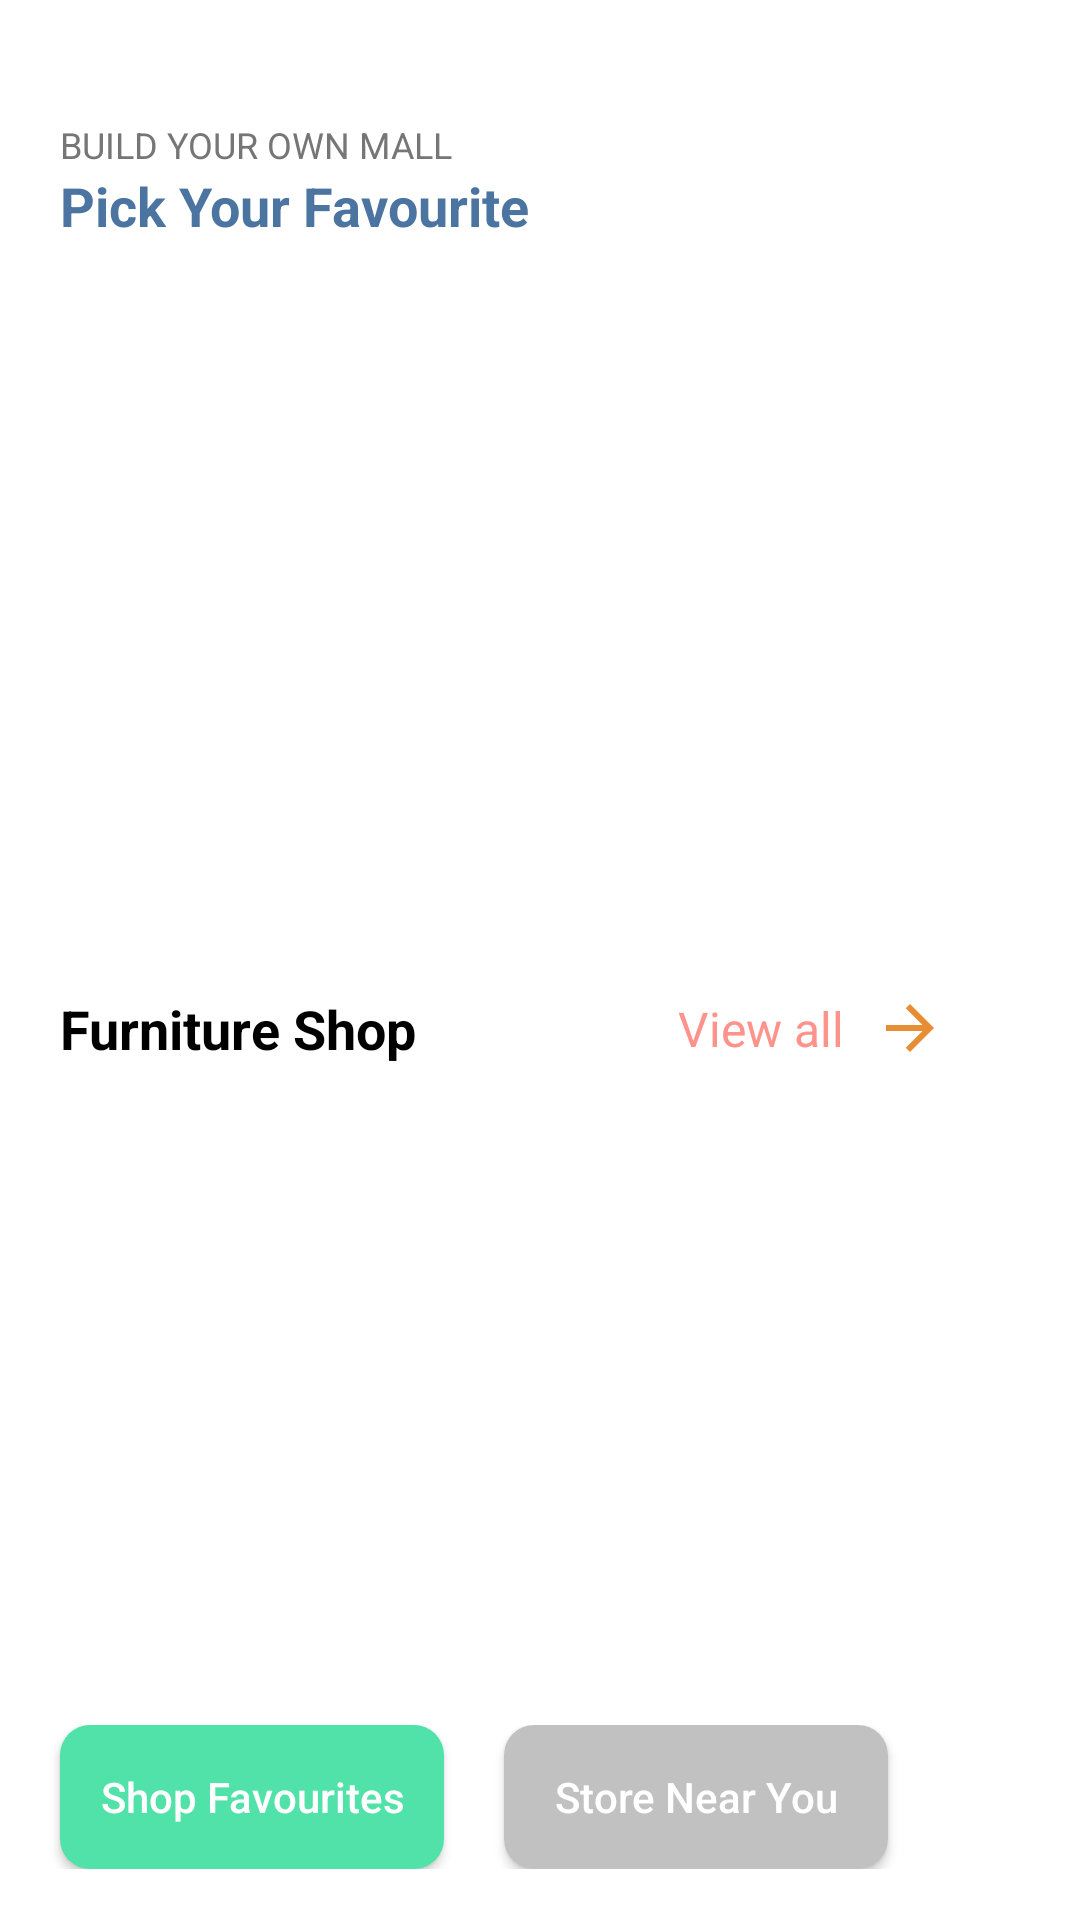

Screen size 1080x1920. Icon name, then its box in pixels as (x1, y1, x2, y2):
orangeforwardarrow: (886, 1004, 934, 1052)
